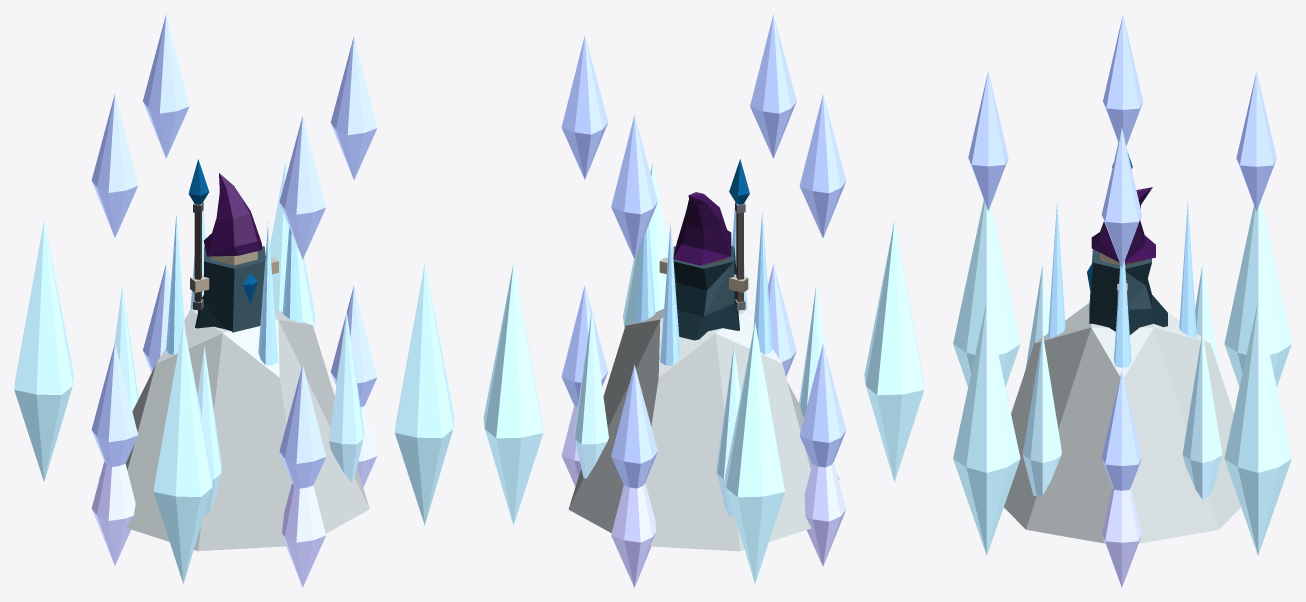
The model's file is FrostTowerNew.fbx.
3 views of the same model, side by side, from view 1: azimuth 30°, elevation 25°; view 2: azimuth 150°, elevation 25°; view 3: azimuth 270°, elevation 25° (orthographic). The views are drawn at different scales.
Parts seen in each view (by area): view 1: Base, Crystal.005, Crystal.004, Crystal.003, TB_Soldier_Mage, Crystal.001, Crystal, Crystal.002; view 2: Base, Crystal.005, Crystal.004, Crystal.003, TB_Soldier_Mage, Crystal.001, Crystal, Crystal.002; view 3: Base, Crystal.005, Crystal.004, Crystal, TB_Soldier_Mage, Crystal.002, Crystal.003, Crystal.001.
Part boxes in pixels (x1,y1,x2,y2): Base: (99, 309, 369, 551); Crystal.005: (14, 161, 454, 583); Crystal.004: (91, 14, 377, 259); Crystal.003: (91, 263, 377, 488); TB_Soldier_Mage: (188, 159, 278, 332); Crystal.001: (91, 406, 377, 587); Crystal: (114, 286, 364, 514); Crystal.002: (166, 210, 302, 365); Base: (568, 309, 839, 551); Crystal.005: (483, 161, 924, 583); Crystal.004: (561, 14, 846, 259); Crystal.003: (561, 264, 846, 488); TB_Soldier_Mage: (659, 159, 749, 340); Crystal.001: (561, 405, 846, 587); Crystal: (574, 253, 824, 516); Crystal.002: (635, 208, 772, 365); Base: (1004, 302, 1240, 543); Crystal.005: (953, 200, 1291, 555); Crystal.004: (968, 14, 1276, 267); Crystal: (1022, 265, 1222, 499); TB_Soldier_Mage: (1087, 152, 1167, 334); Crystal.002: (1048, 200, 1196, 367); Crystal.003: (1005, 371, 1238, 490); Crystal.001: (1101, 487, 1141, 587).
Size of the model in its own units: 993 by 1489 by 993.
Materials: 7 (1 with a texture image).
